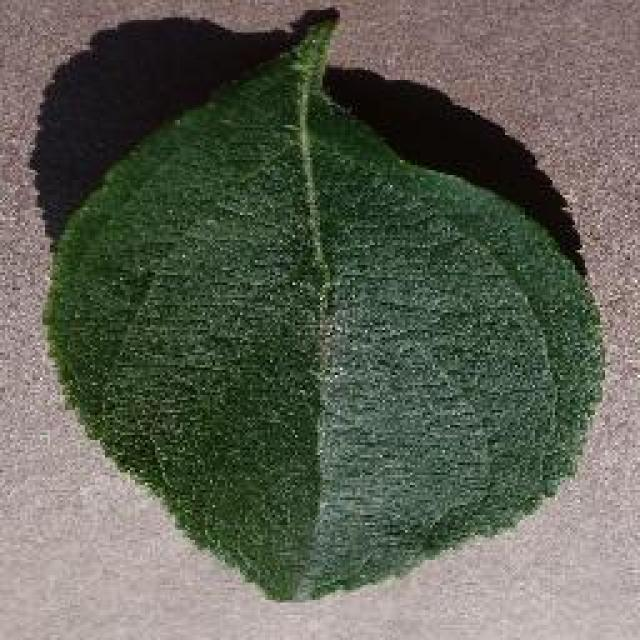apple healthy: (38, 5, 608, 603)
